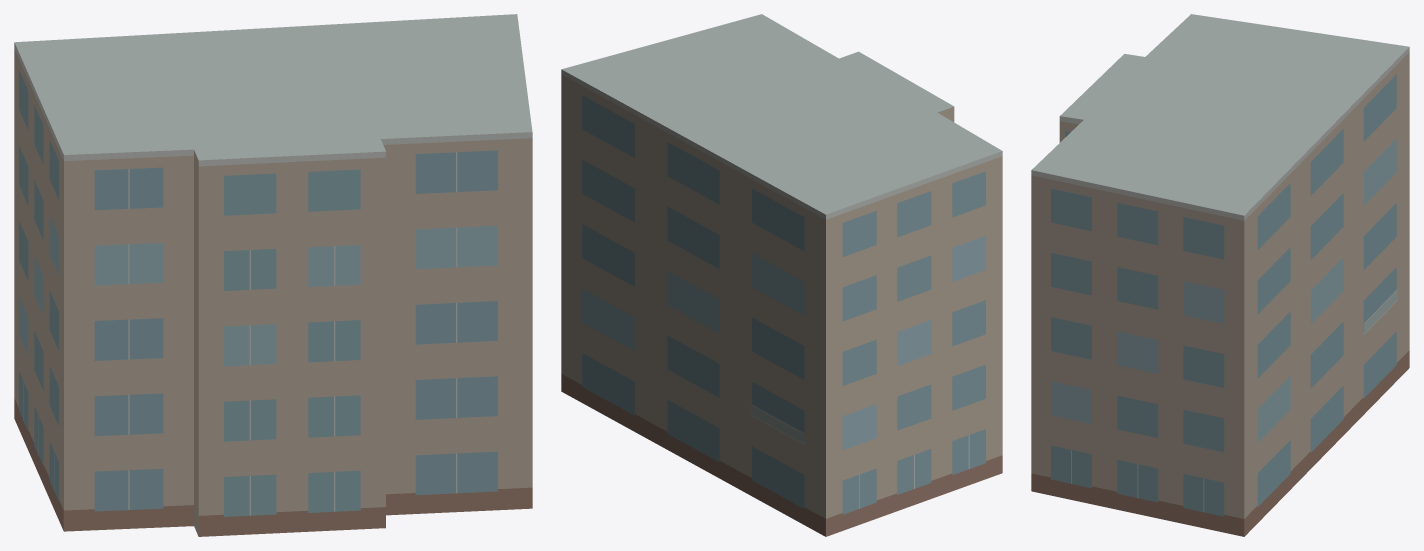
The model's file is survey-upis-32692849.glb.
3 views of the same model, side by side, from view 1: azimuth 30°, elevation 25°; view 2: azimuth 150°, elevation 25°; view 3: azimuth 270°, elevation 25° (orthographic). The views are drawn at different scales.
Visible parts, largest first — view 1: survey-upis-32692849.tmp; view 2: survey-upis-32692849.tmp; view 3: survey-upis-32692849.tmp.
Part boxes in pixels (bbox=[...]): survey-upis-32692849.tmp: bbox=[14, 14, 532, 536]; survey-upis-32692849.tmp: bbox=[561, 14, 1002, 536]; survey-upis-32692849.tmp: bbox=[1031, 14, 1409, 536].
Size of the model in its own units: 20.62 by 15.3 by 16.34.
